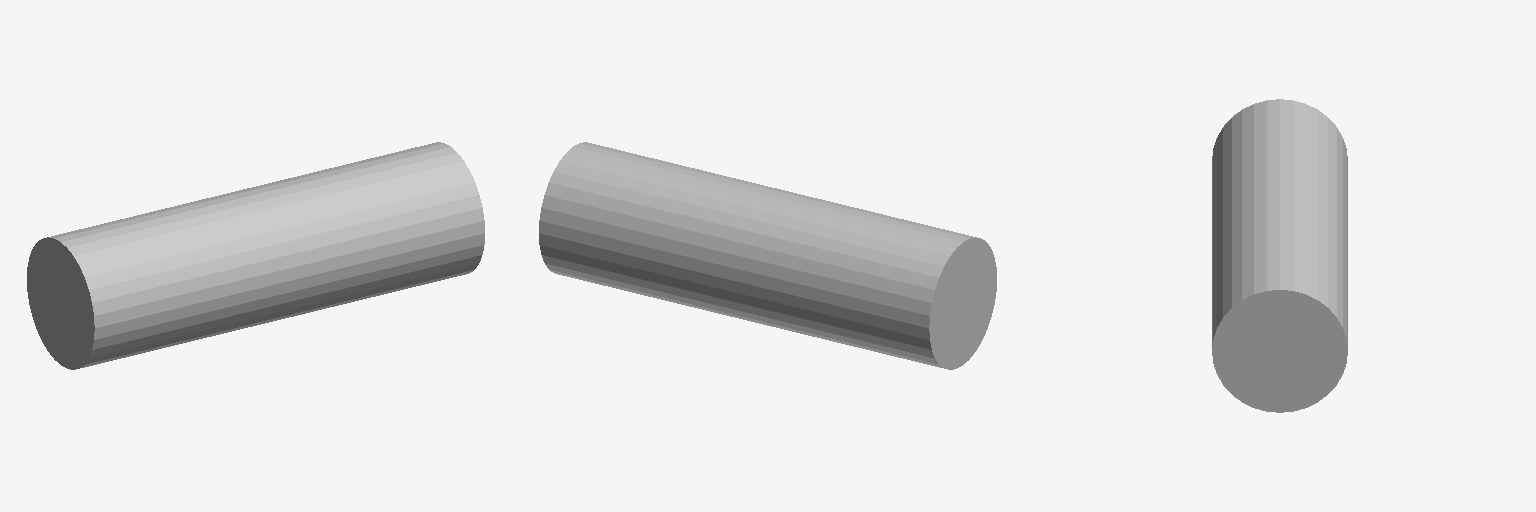
File: pinch_roller.obj
The picture shows the model from 3 angles: view 1: azimuth 30°, elevation 25°; view 2: azimuth 150°, elevation 25°; view 3: azimuth 270°, elevation 25°; orthographic projection.
Visible parts, largest first — view 1: pinch_roller_柱体; view 2: pinch_roller_柱体; view 3: pinch_roller_柱体.
Part boxes in pixels (bbox=[...]): pinch_roller_柱体: bbox=[27, 142, 484, 369]; pinch_roller_柱体: bbox=[539, 142, 996, 369]; pinch_roller_柱体: bbox=[1212, 99, 1347, 412].
Size of the model in its own units: 0.0034 by 0.001 by 0.001.